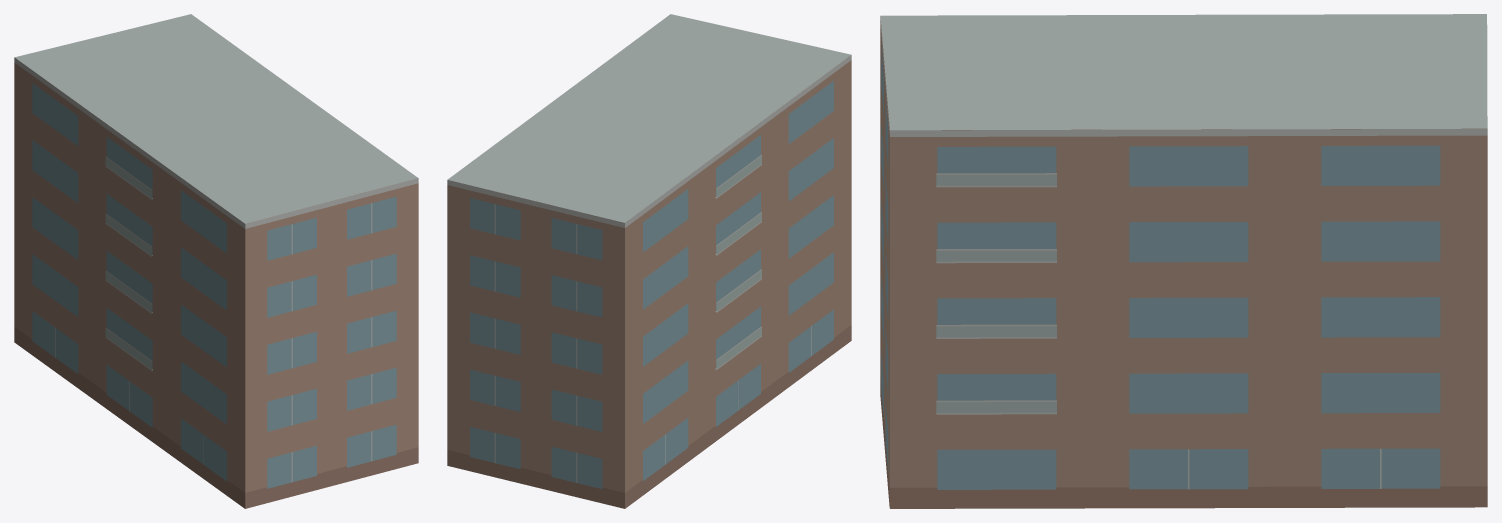
Rendered from survey-upis-33047166.glb.
The picture shows the model from 3 angles, left to right: view 1: azimuth 30°, elevation 25°; view 2: azimuth 150°, elevation 25°; view 3: azimuth 270°, elevation 25°; orthographic projection. The views are drawn at different scales.
Visible parts, largest first — view 1: survey-upis-33047166.tmp; view 2: survey-upis-33047166.tmp; view 3: survey-upis-33047166.tmp.
Part boxes in pixels (bbox=[...]): survey-upis-33047166.tmp: bbox=[14, 14, 418, 508]; survey-upis-33047166.tmp: bbox=[447, 14, 851, 508]; survey-upis-33047166.tmp: bbox=[880, 14, 1487, 508].
Size of the model in its own units: 8.96 by 13.55 by 19.7.
